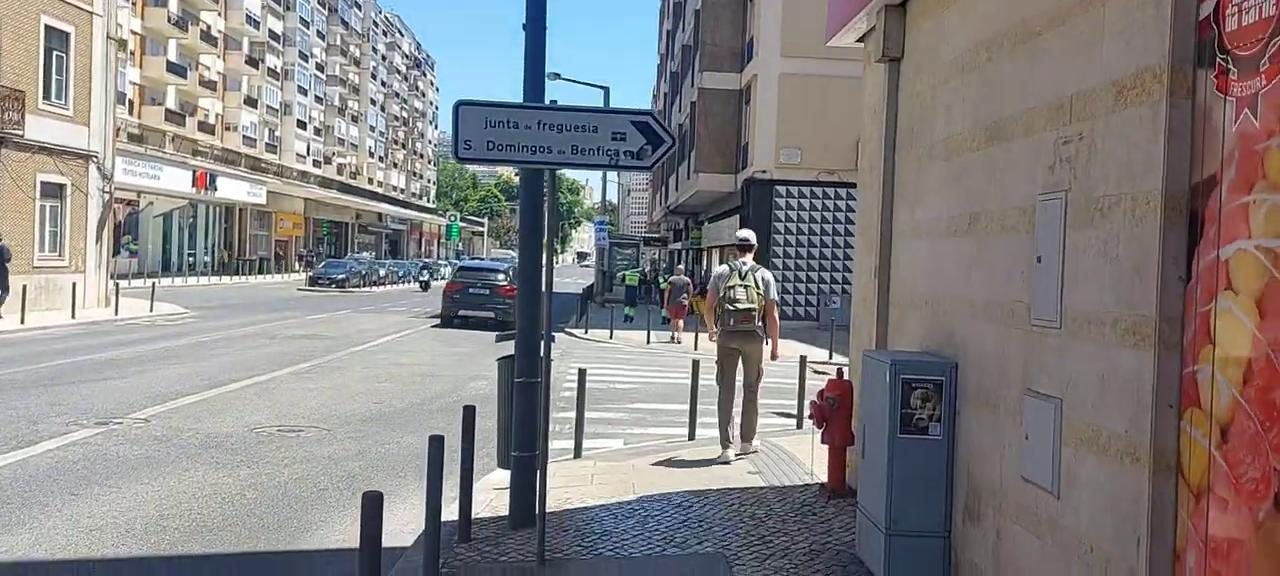direcao de via de acesso: (447, 98, 682, 181)
